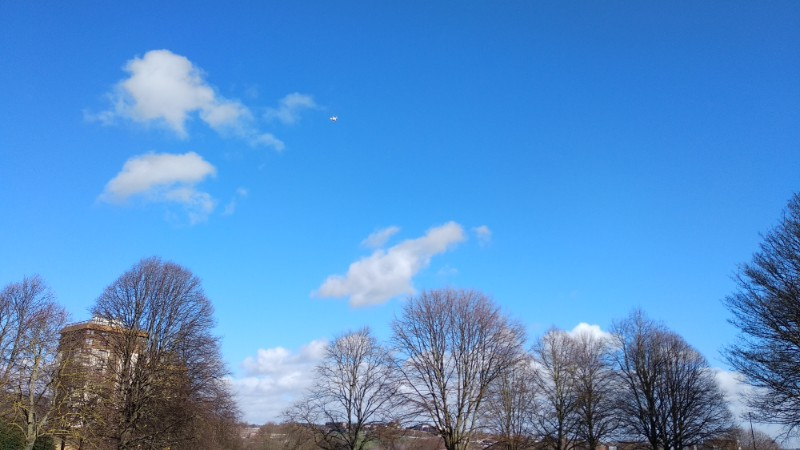drone: (328, 114, 339, 123)
